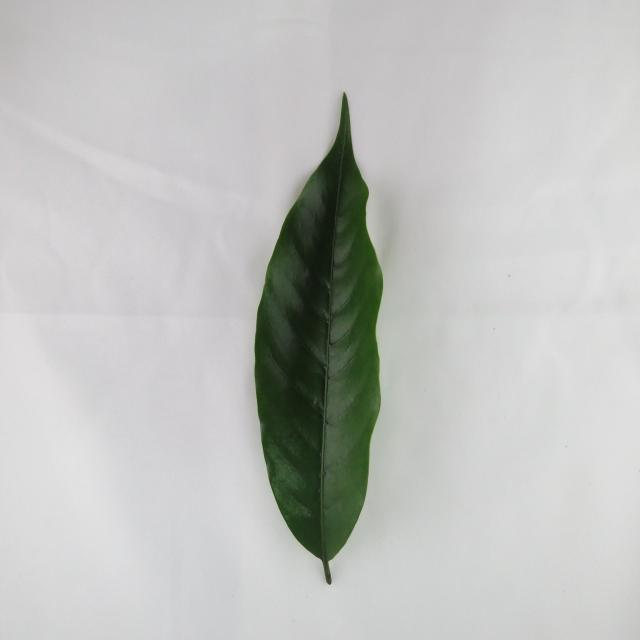DeficienciaNutricional-Calcio: (255, 95, 382, 583)
